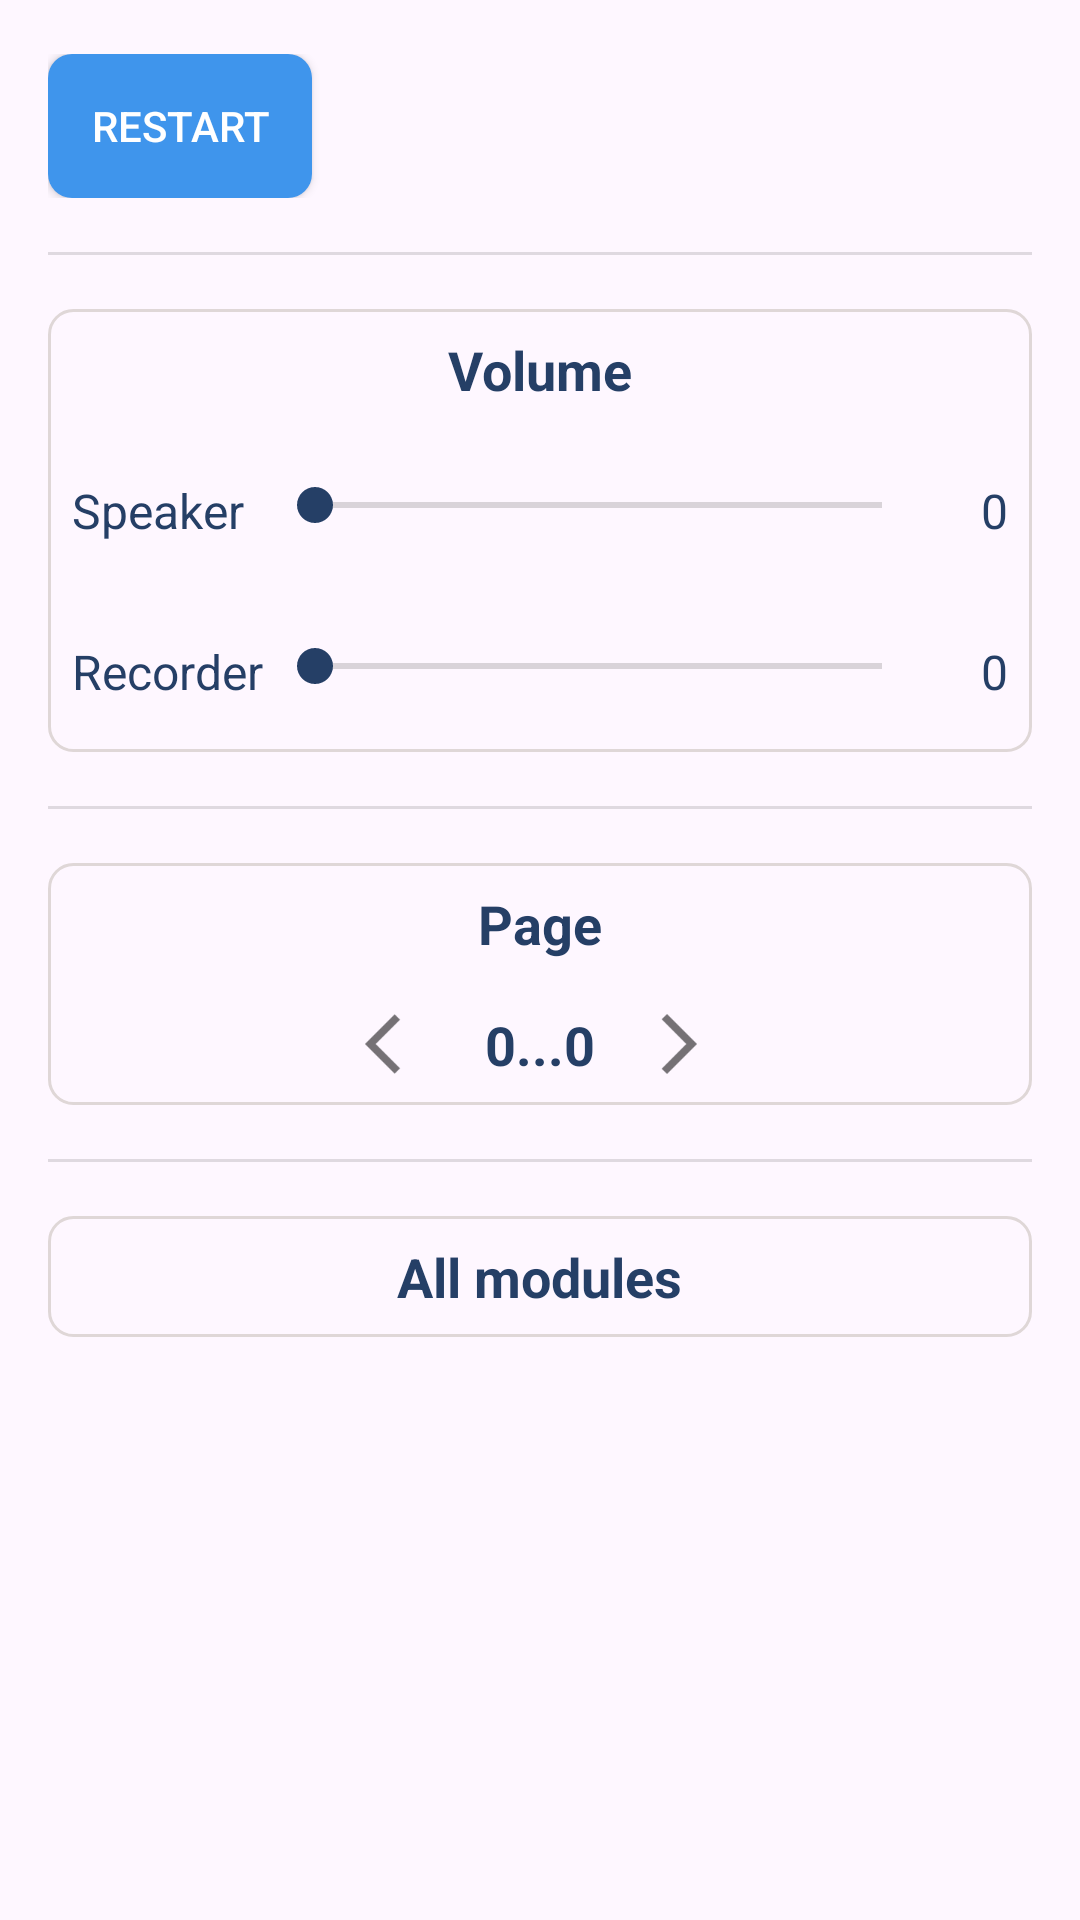

Where to tap for icons on this 1080px x 1920px app screen, as (x=x, y=y):
arrow back: (x=382, y=1044)
arrow forward: (x=679, y=1044)
